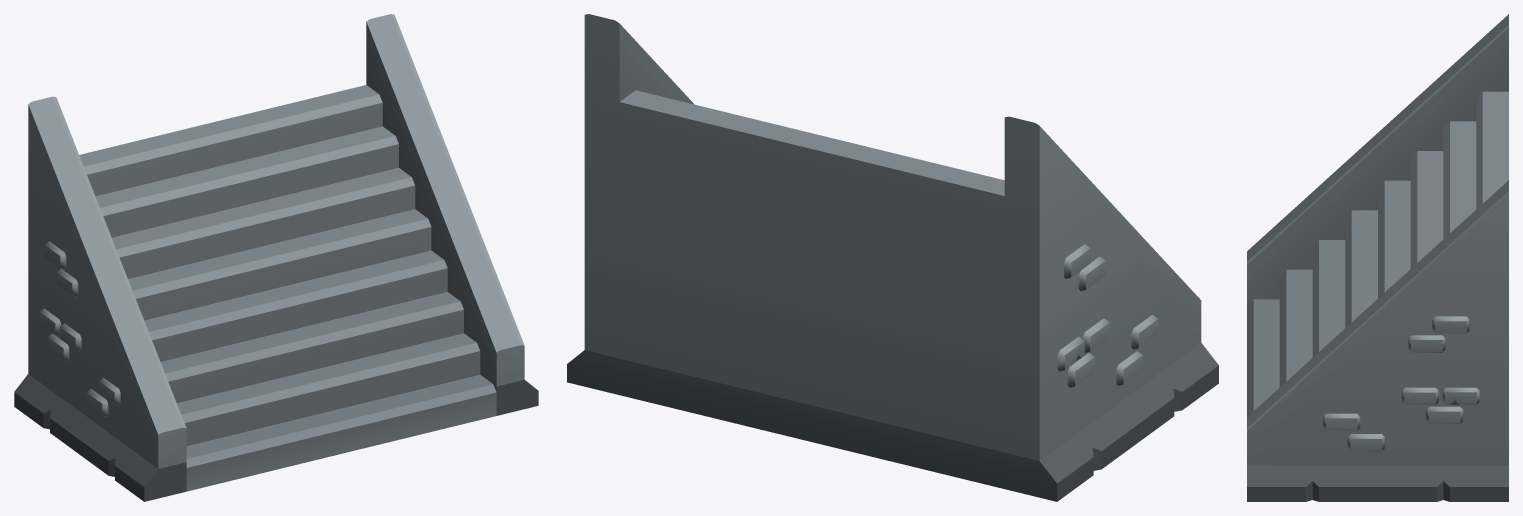
Rendered from stairs_wide.glb.
3 views of the same model, side by side, from view 1: azimuth 30°, elevation 25°; view 2: azimuth 150°, elevation 25°; view 3: azimuth 270°, elevation 25° (orthographic). The views are drawn at different scales.
Parts seen in each view (by area): view 1: stairs_wide; view 2: stairs_wide; view 3: stairs_wide.
Part boxes in pixels (x1,y1,x2,y2): stairs_wide: (14, 14, 538, 501); stairs_wide: (567, 14, 1218, 501); stairs_wide: (1247, 14, 1508, 501).
Size of the model in its own units: 7 by 5.1 by 4.
1 material, 1 textured.
